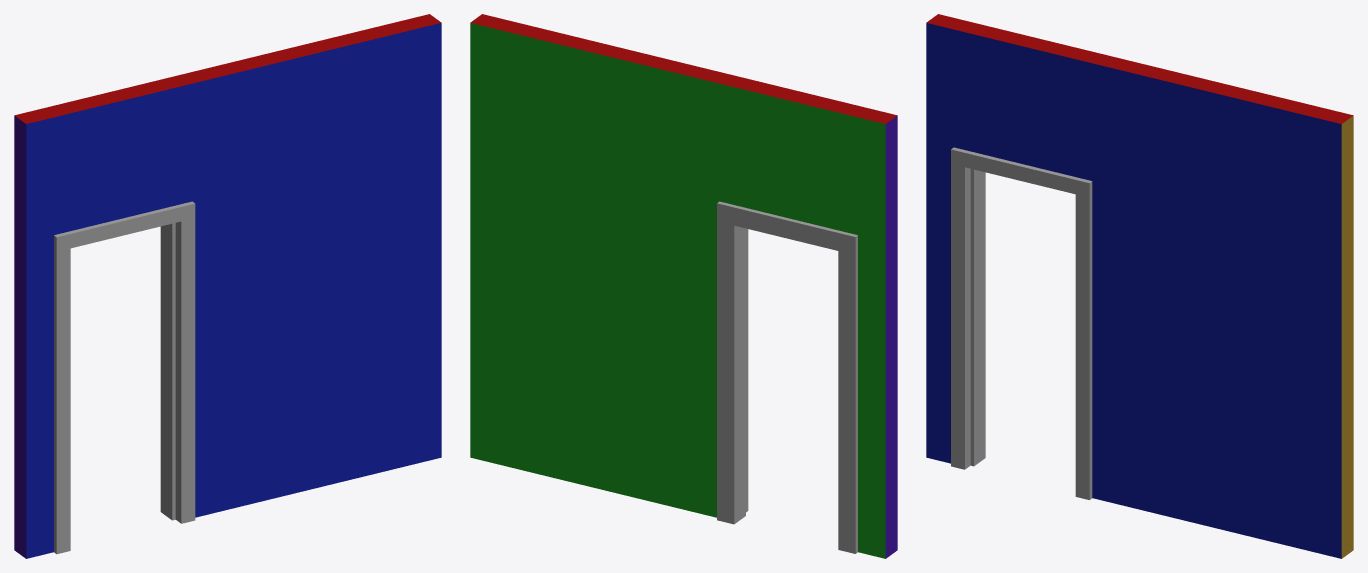
Rendered from Wall_Door_03b_R.fbx.
3 renders of one model, left to right at view 1: azimuth 30°, elevation 25°; view 2: azimuth 150°, elevation 25°; view 3: azimuth 330°, elevation 25°, orthographic.
Parts seen in each view (by area): view 1: Wall_Door_03b_R; view 2: Wall_Door_03b_R; view 3: Wall_Door_03b_R.
Boxes of the visible parts, x1,y1,x2,y2 form: Wall_Door_03b_R: (14, 14, 441, 558); Wall_Door_03b_R: (470, 14, 897, 558); Wall_Door_03b_R: (926, 14, 1353, 558).
Size of the model in its own units: 3 by 0.2177 by 3.
